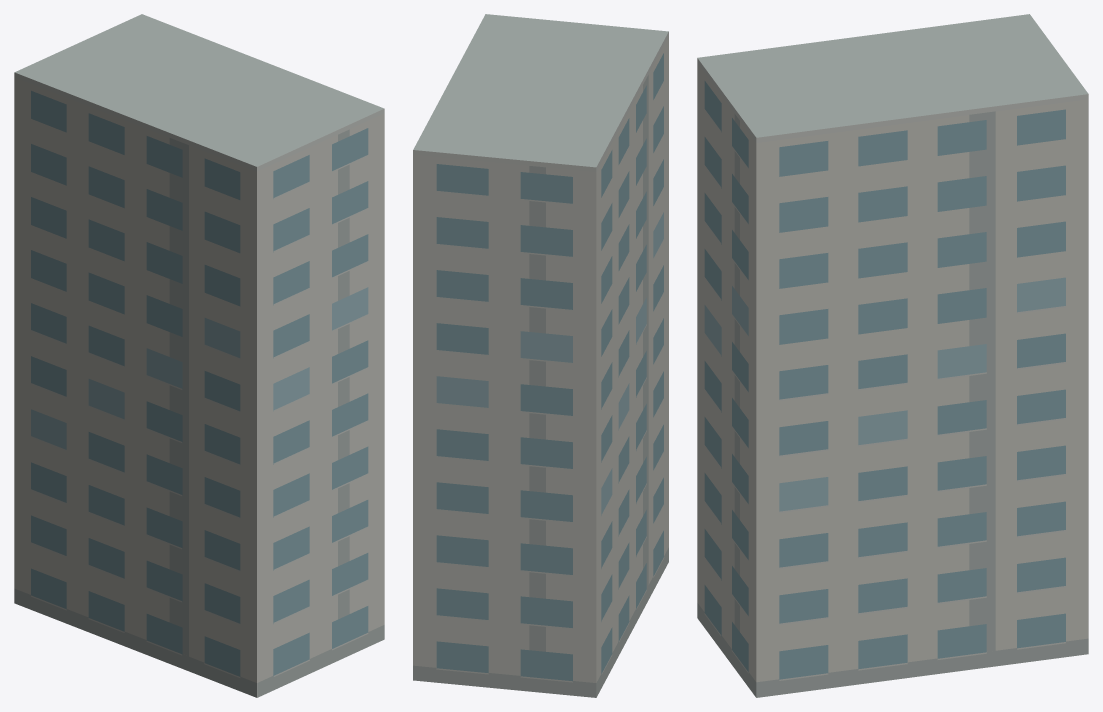
The model's file is residential-90616b54-2137-433a-88b6-52e1c7dbbfab.glb.
3 views of the same model, side by side, from view 1: azimuth 30°, elevation 25°; view 2: azimuth 150°, elevation 25°; view 3: azimuth 270°, elevation 25° (orthographic). The views are drawn at different scales.
Parts seen in each view (by area): view 1: residential-90616b54-2137-433a-88b6-52e1c7dbbfab.tmp; view 2: residential-90616b54-2137-433a-88b6-52e1c7dbbfab.tmp; view 3: residential-90616b54-2137-433a-88b6-52e1c7dbbfab.tmp.
Part boxes in pixels (x1=…): residential-90616b54-2137-433a-88b6-52e1c7dbbfab.tmp: x1=14, y1=14, x2=384, y2=697; residential-90616b54-2137-433a-88b6-52e1c7dbbfab.tmp: x1=413, y1=14, x2=668, y2=697; residential-90616b54-2137-433a-88b6-52e1c7dbbfab.tmp: x1=697, y1=14, x2=1088, y2=697.
Size of the model in its own units: 12.81 by 27 by 17.11.
